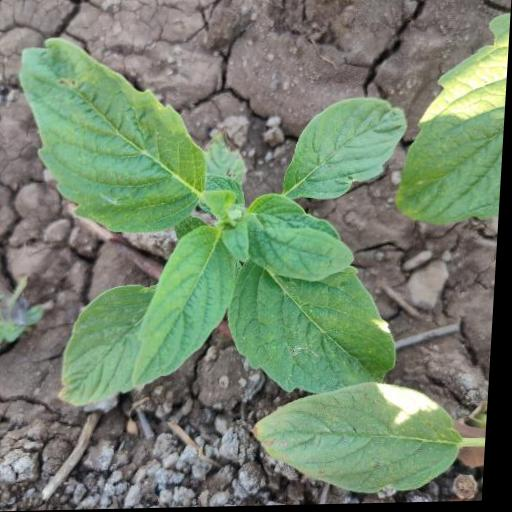crop: (25, 18, 433, 418)
